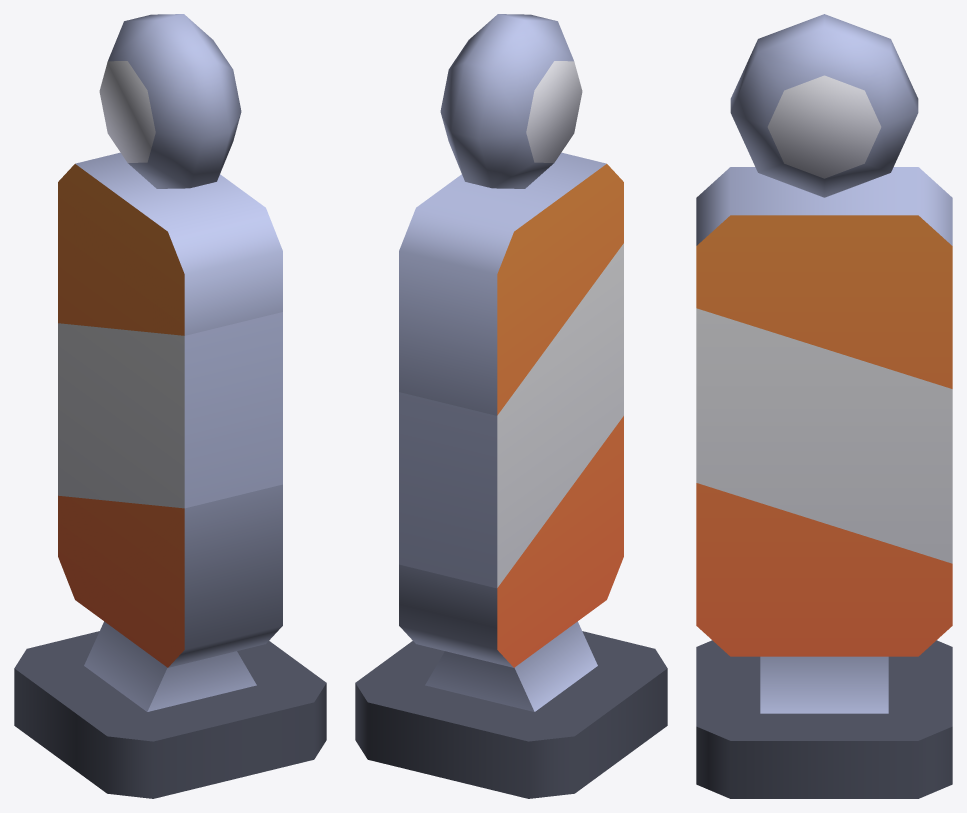
Rendered from construction-light.glb.
3 views of the same model, side by side, from view 1: azimuth 30°, elevation 25°; view 2: azimuth 150°, elevation 25°; view 3: azimuth 270°, elevation 25° (orthographic).
Visible parts, largest first — view 1: construction-light; view 2: construction-light; view 3: construction-light.
Part boxes in pixels (<box>): construction-light: <box>14,14,326,798</box>; construction-light: <box>355,14,667,798</box>; construction-light: <box>696,14,952,798</box>.
Size of the model in its own units: 0.075 by 0.2337 by 0.075.
Materials: 1 (1 with a texture image).
